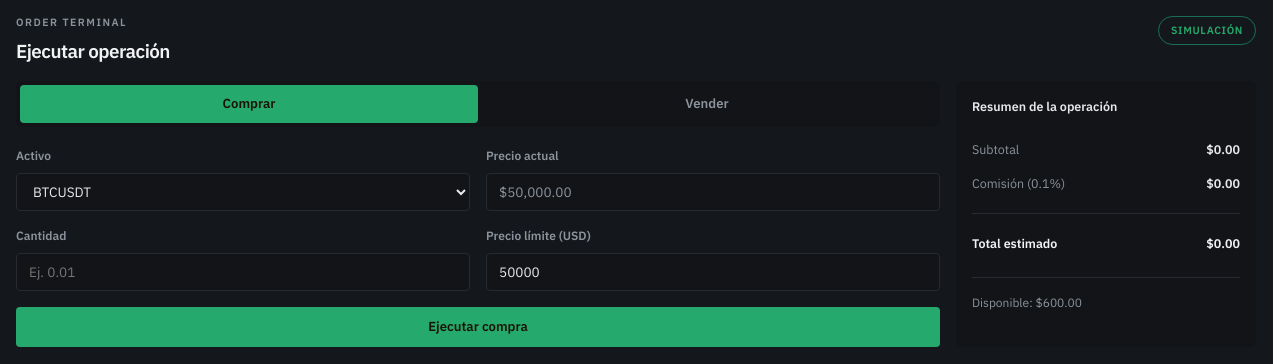
TradingPanel › actualiza el precio límite al cambiar de activo
The image size is (1273, 364).
Select "ETHUSDT" in the dropdown labelled "Activo" at (243, 192), box 16,173 -> 470,211
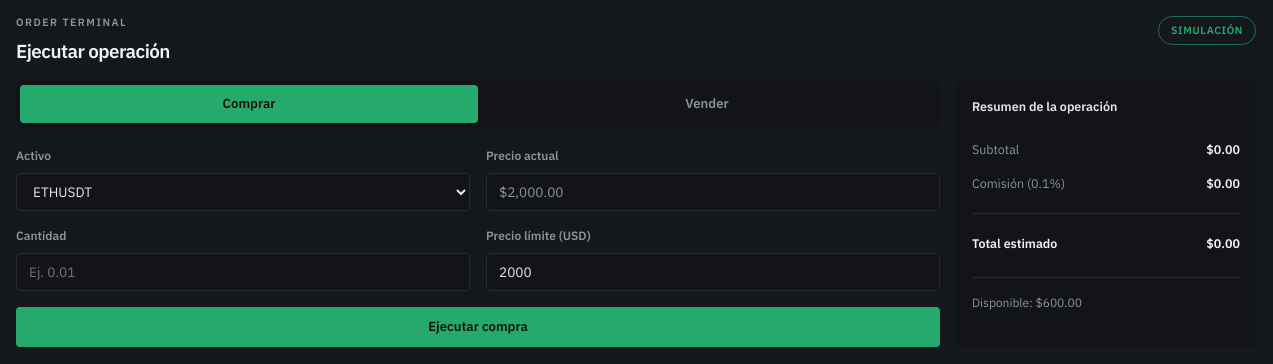
Expected: the number field labelled "Precio límite (USD)" holds "2000", 486,253 -> 940,291
